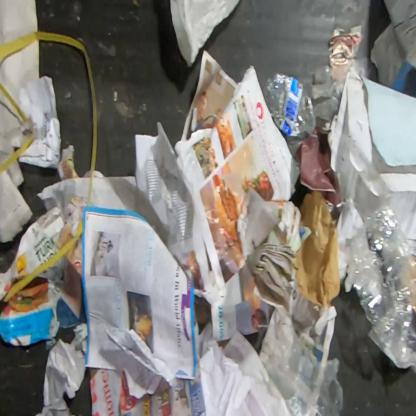rigid_plastic: (345, 198, 415, 365), (262, 72, 316, 140)
soft_plastic: (0, 30, 98, 206), (258, 306, 345, 415), (2, 218, 84, 303), (170, 0, 241, 68), (311, 56, 378, 127), (0, 134, 34, 174), (0, 82, 31, 122)
